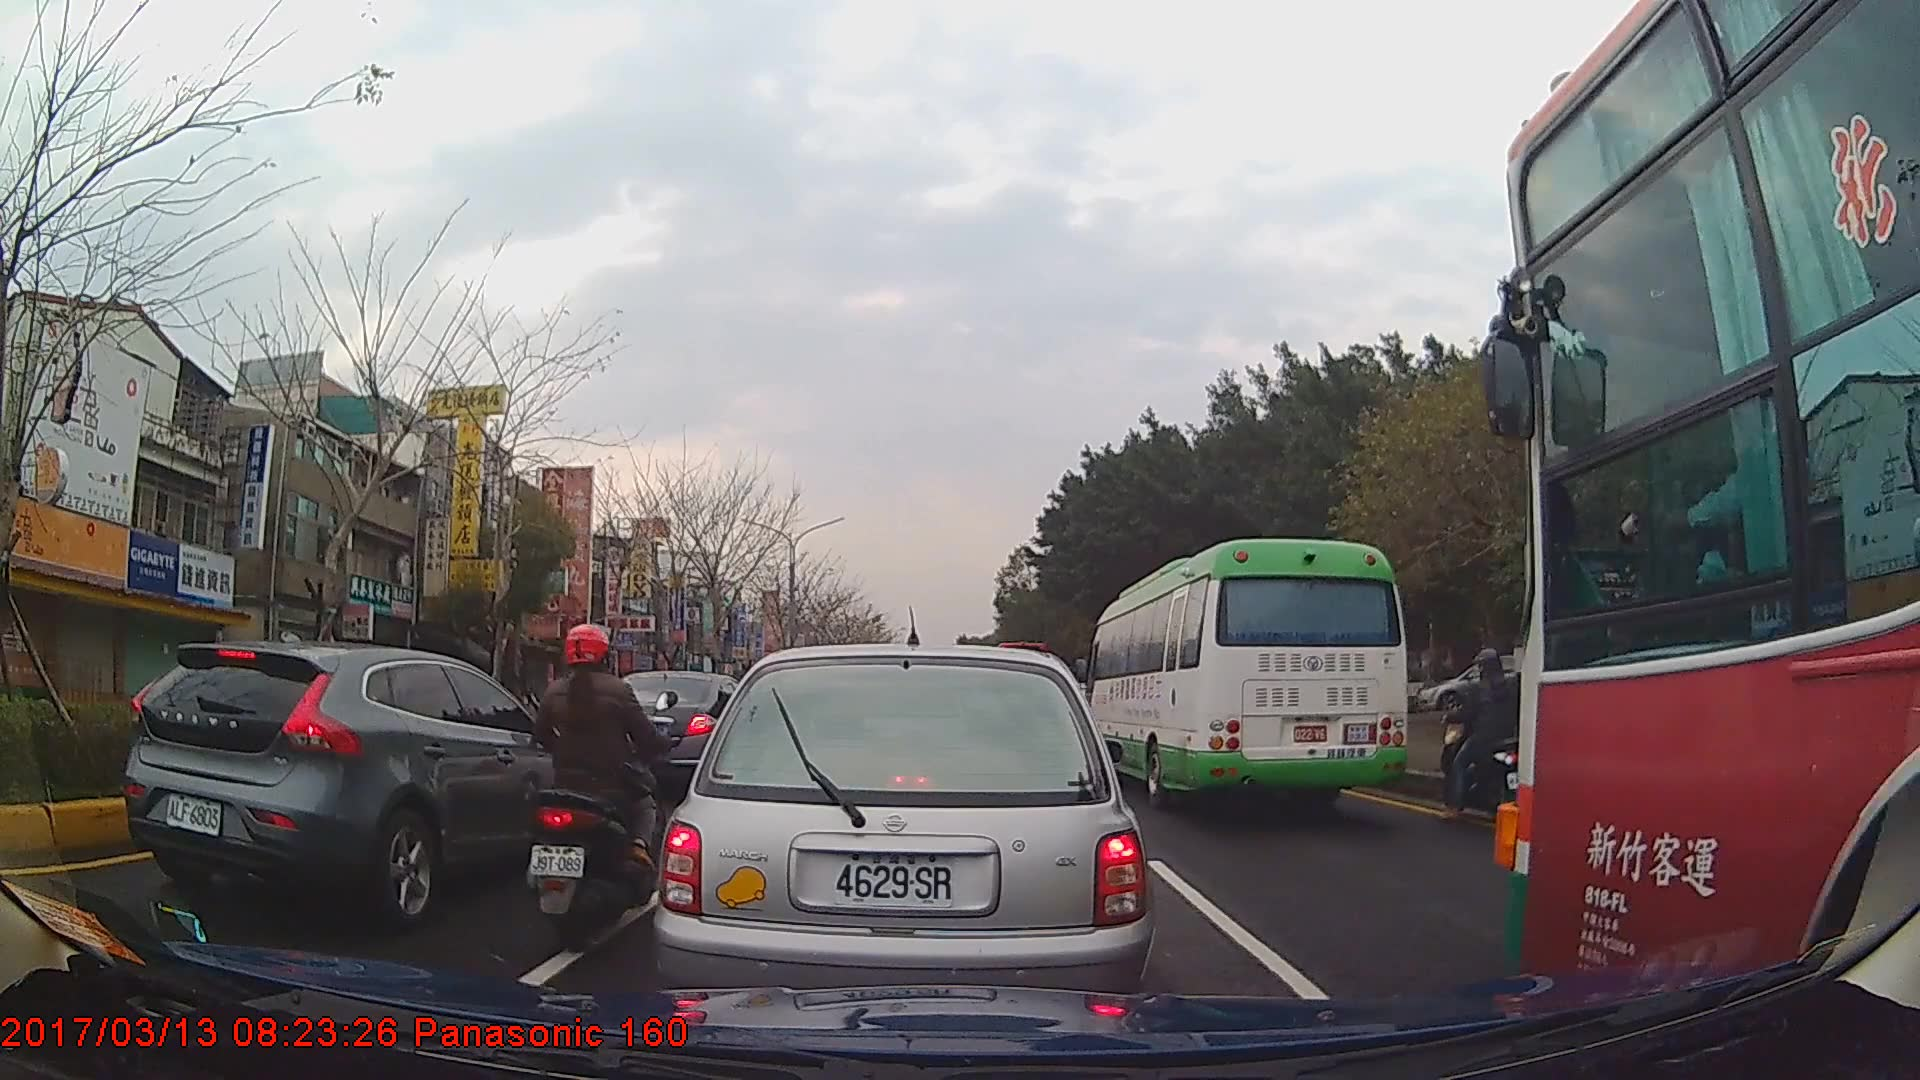rider: (529, 622, 682, 939), (1440, 648, 1538, 823)
vehicle: (1490, 0, 1920, 1041), (655, 642, 1157, 1037), (121, 643, 598, 919), (1085, 536, 1407, 811), (594, 669, 757, 791)
